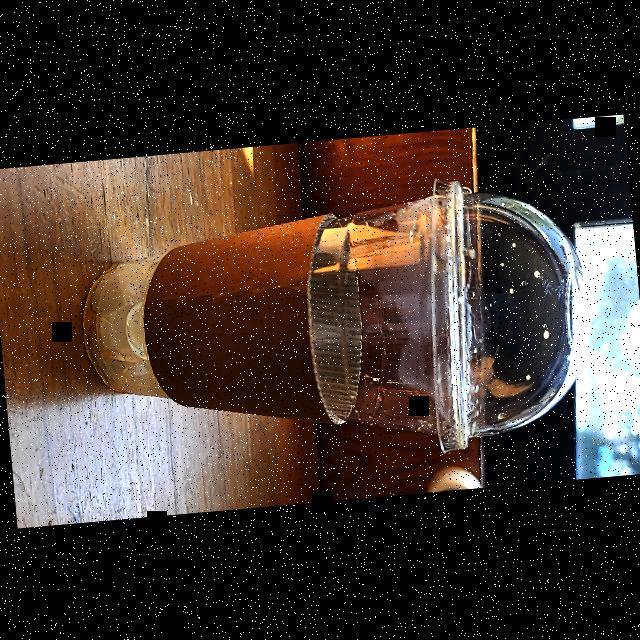plastic_cup: (71, 166, 596, 482)
plastic_cup_lid: (409, 164, 594, 450)
